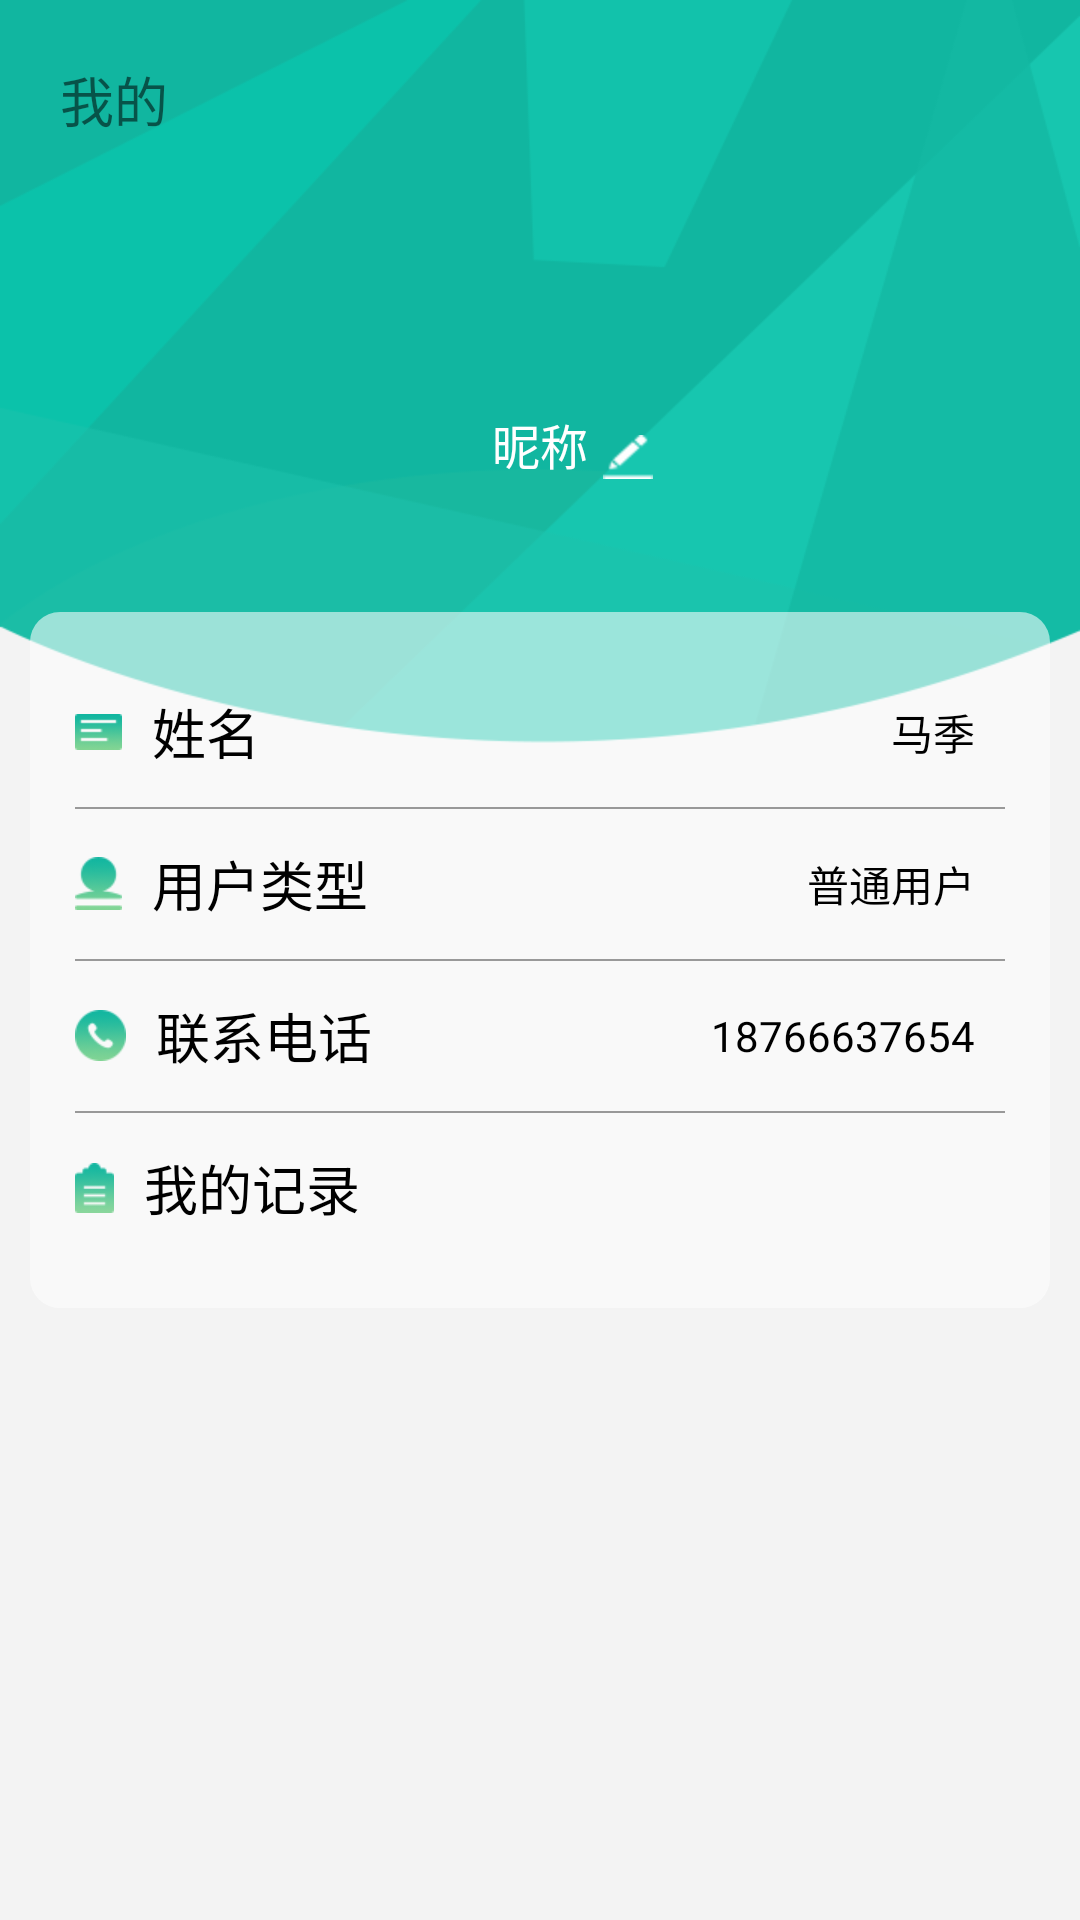

Icon click points for this 1080w x 1920h phone screenshot, format [x,y]:
modify: [628,457]
phone: [100,1035]
record: [94,1188]
